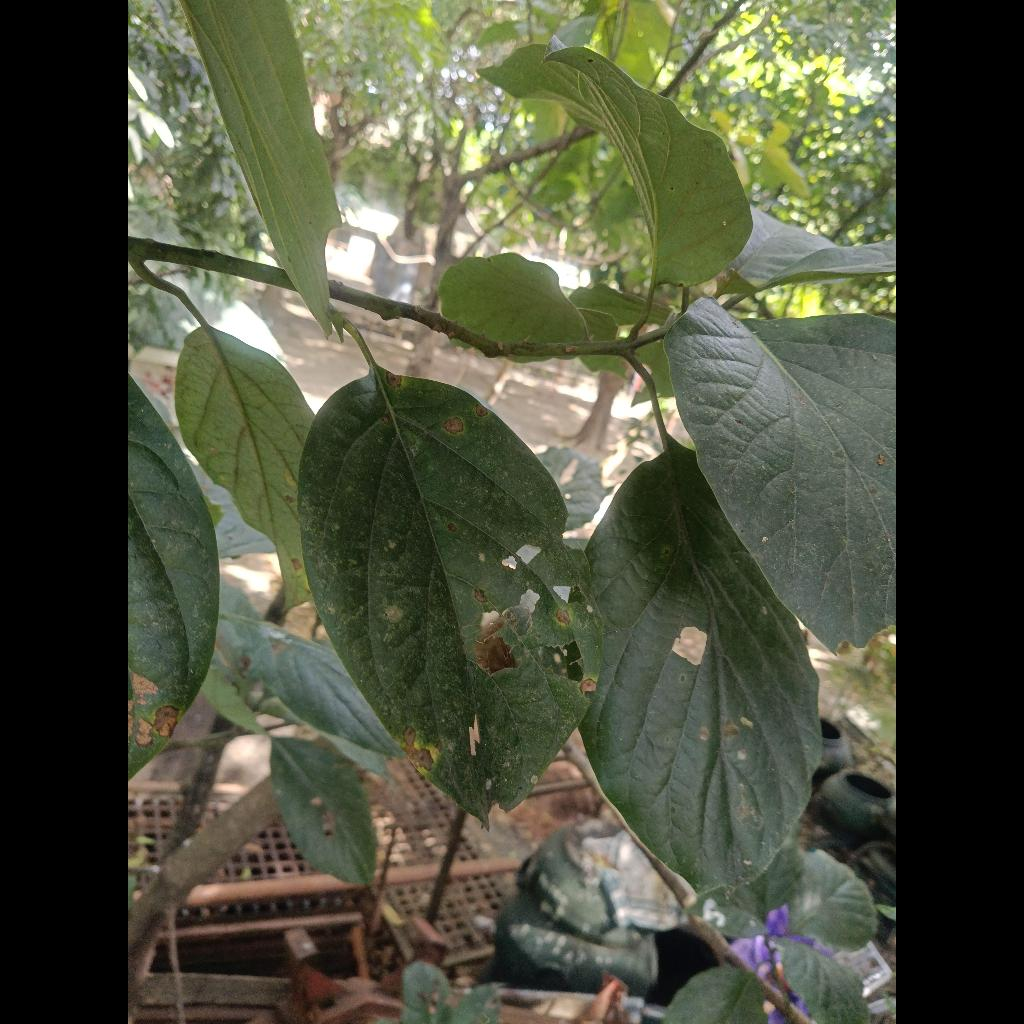Pest Infested: (299, 363, 602, 822)
